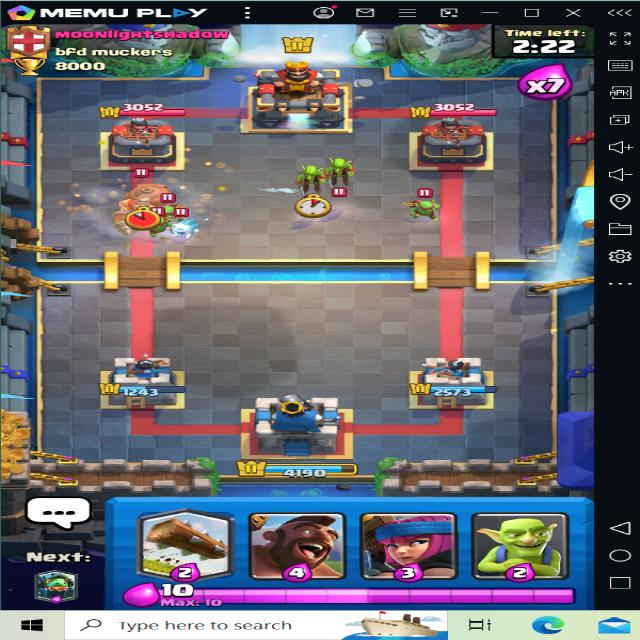Icespirit: (164, 208, 212, 240)
Mightyminer: (112, 166, 188, 236)
Speargoblin: (141, 205, 177, 237), (156, 196, 184, 229), (411, 190, 440, 219)
